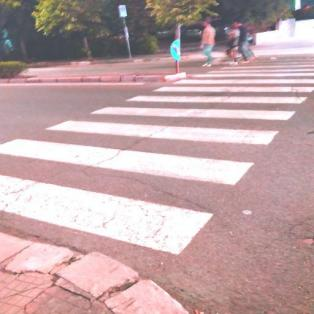Paso de Cebra: (41, 105, 301, 150), (151, 76, 313, 96)
